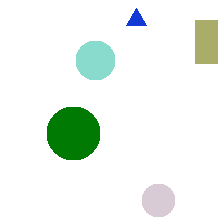circle: (47, 107, 99, 159), (76, 41, 114, 79), (142, 184, 174, 216)
rectangle: (195, 20, 217, 63)
triangle: (126, 8, 146, 25)
